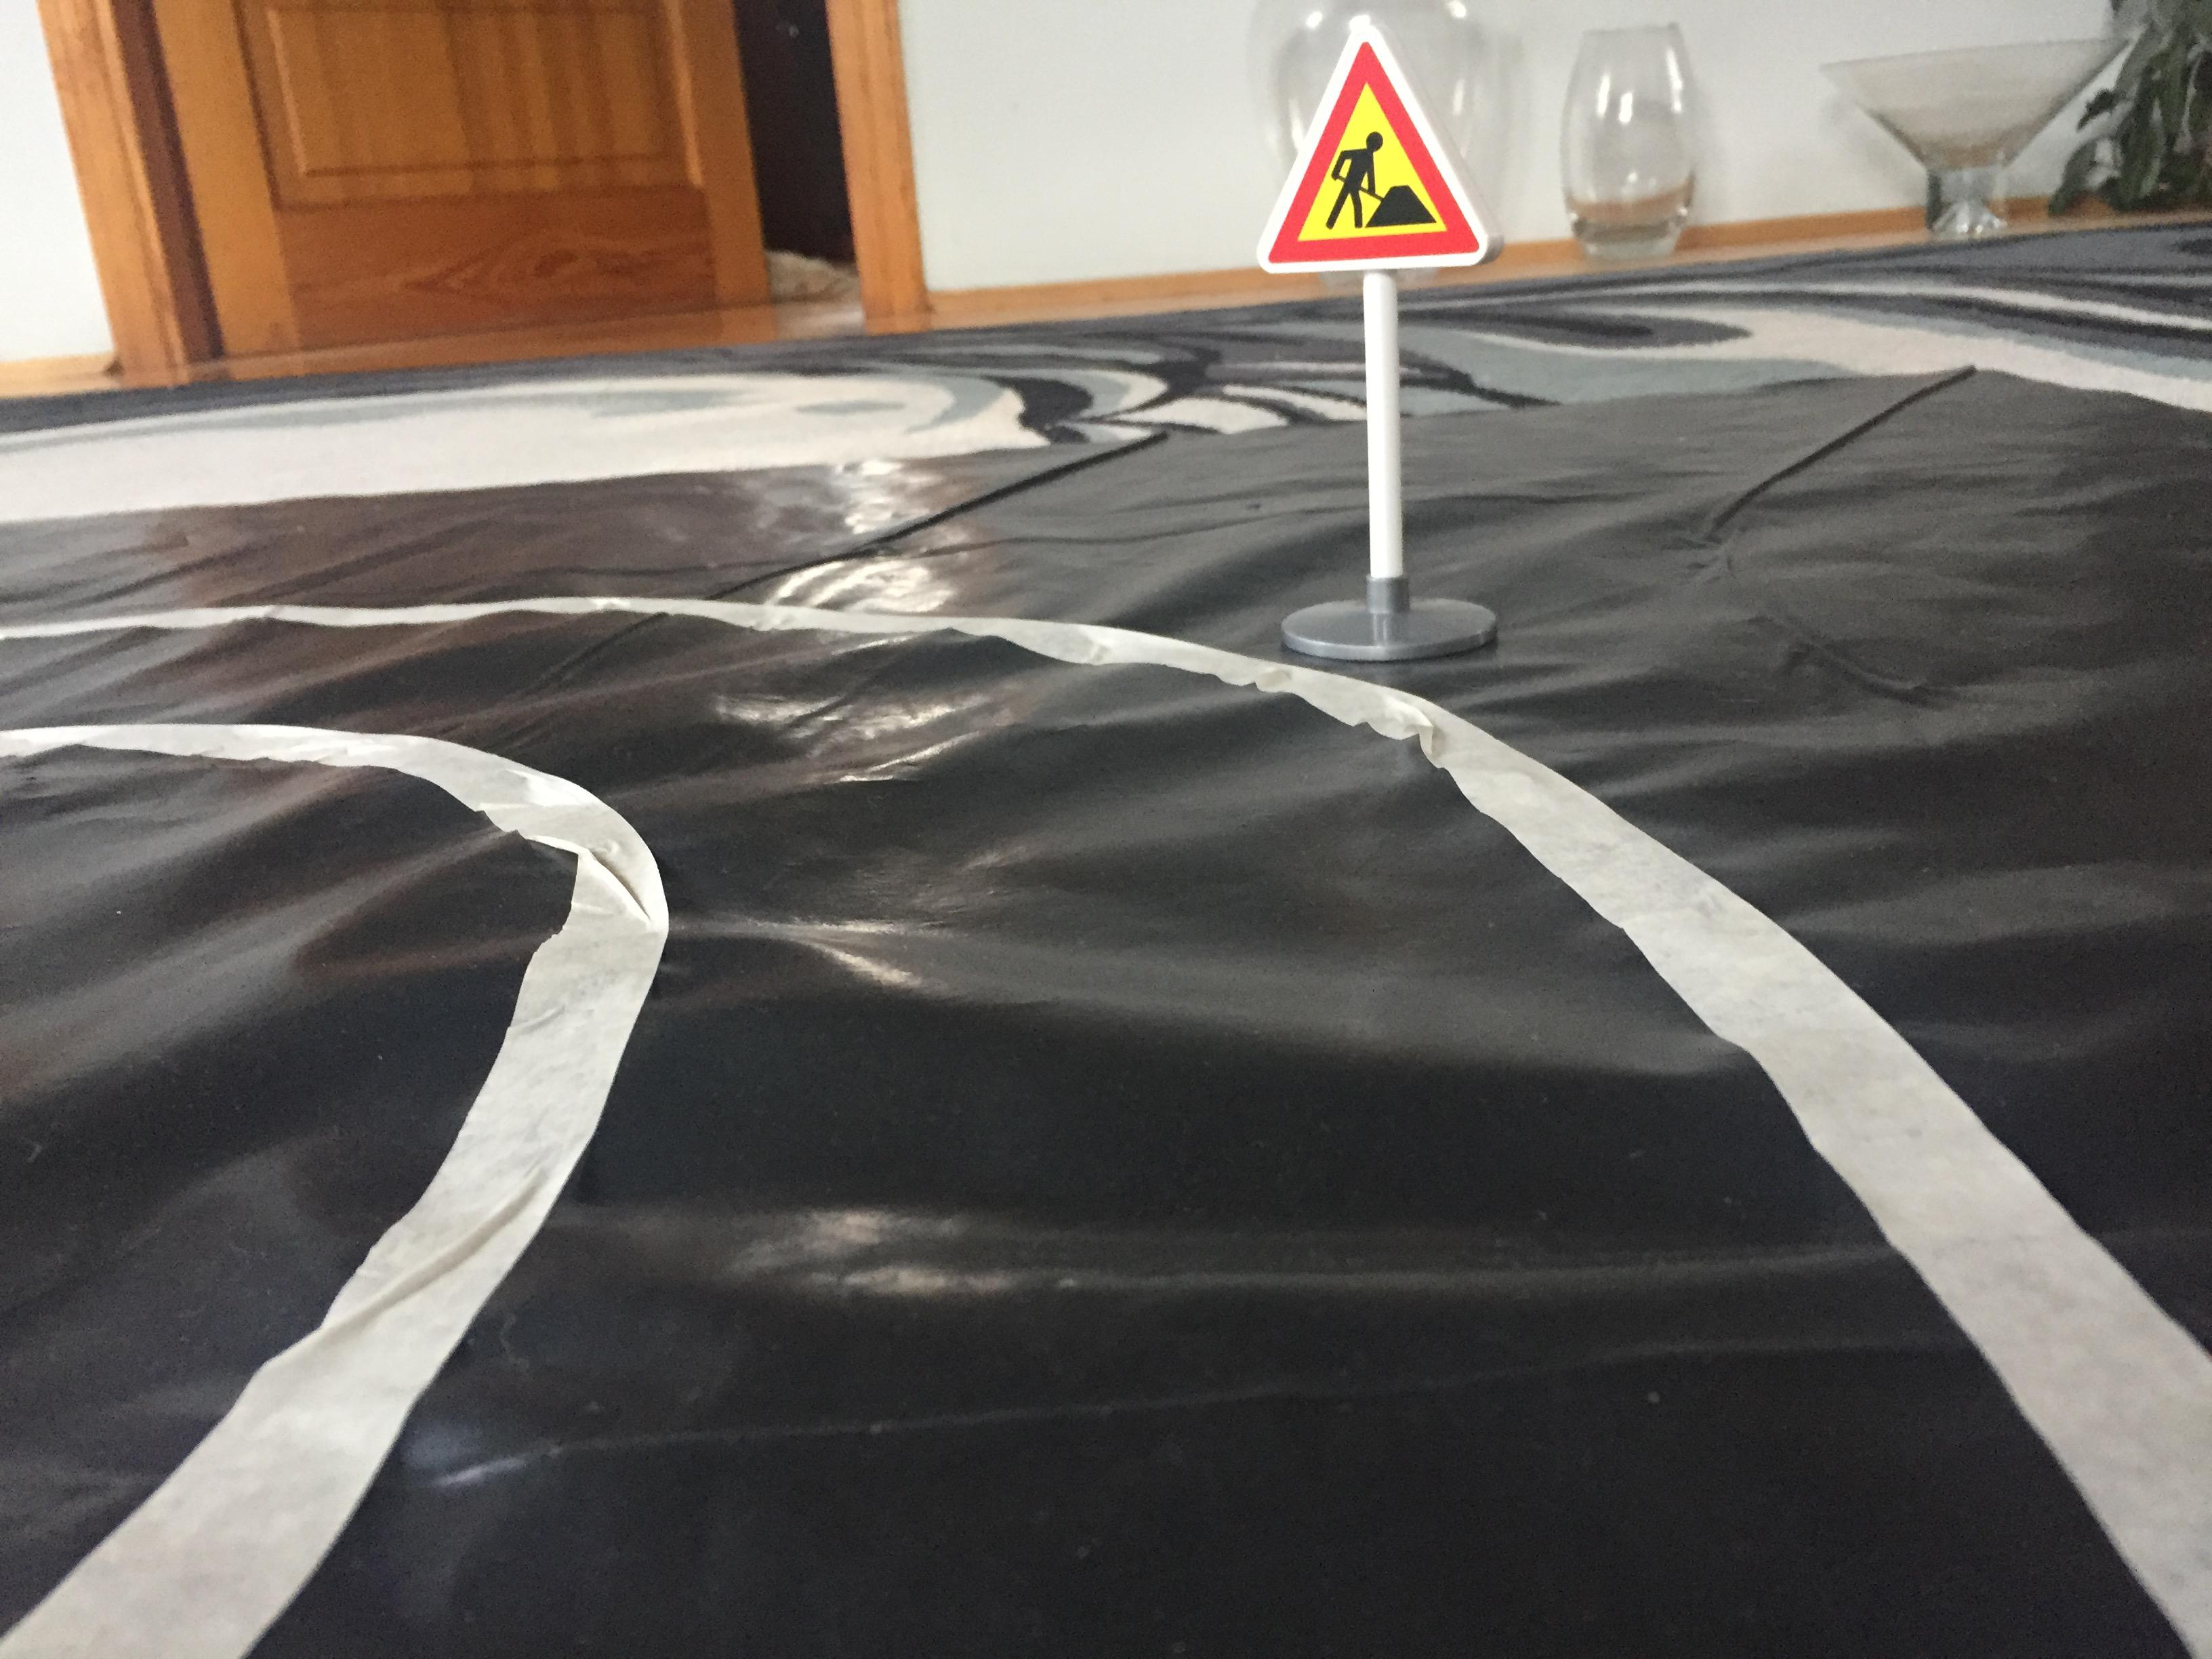work: (1251, 14, 1498, 282)
